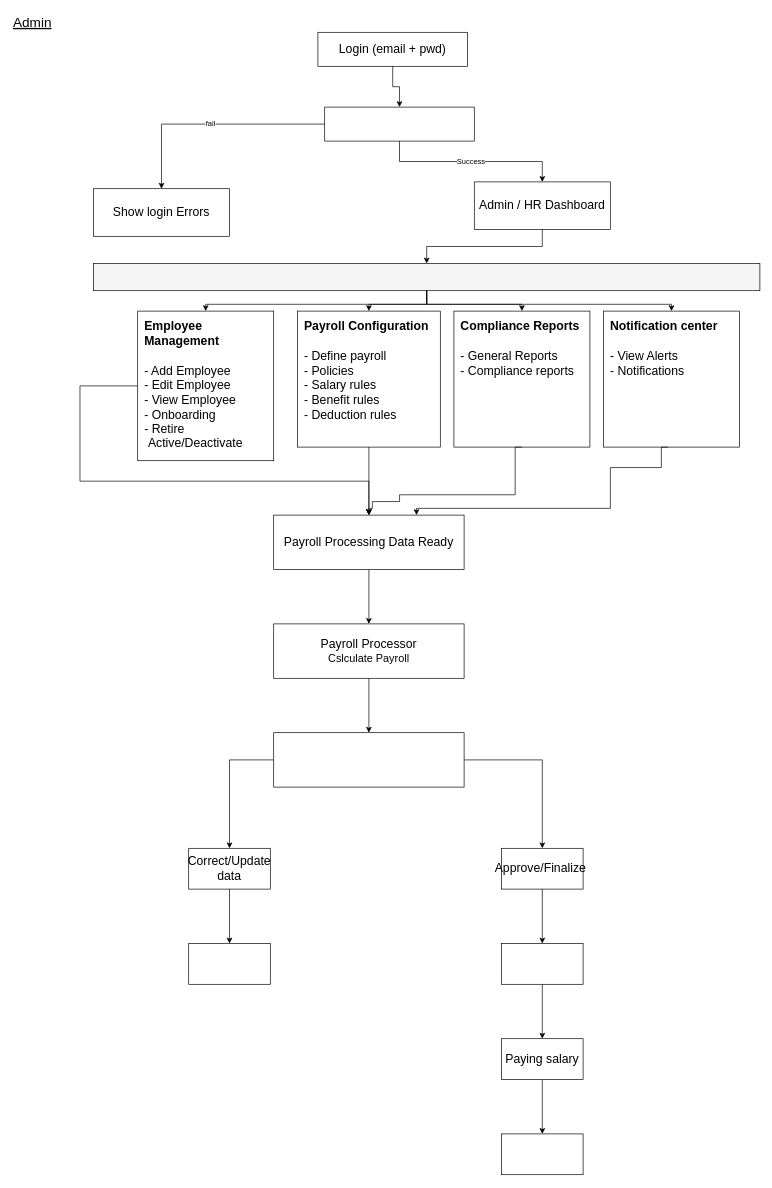
The diagram is 772 pixels wide and 1188 high, and some of its shapes have lost their labels. Each missing label, with the box of its shape:
Employee gets Pay Confirmation: (501, 1133, 583, 1175)
HR Dashboard: (93, 263, 760, 291)
HR reviews Payroll or payroll data: (273, 732, 464, 787)
Payroll Reprocess: (188, 943, 270, 984)
Process Payment: (501, 943, 583, 984)
Validate: (324, 106, 474, 141)
